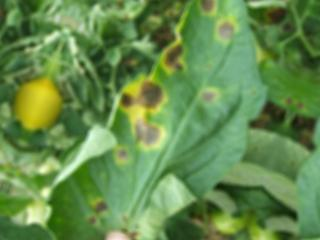Tomato Early blight leaf: (45, 0, 302, 240)
